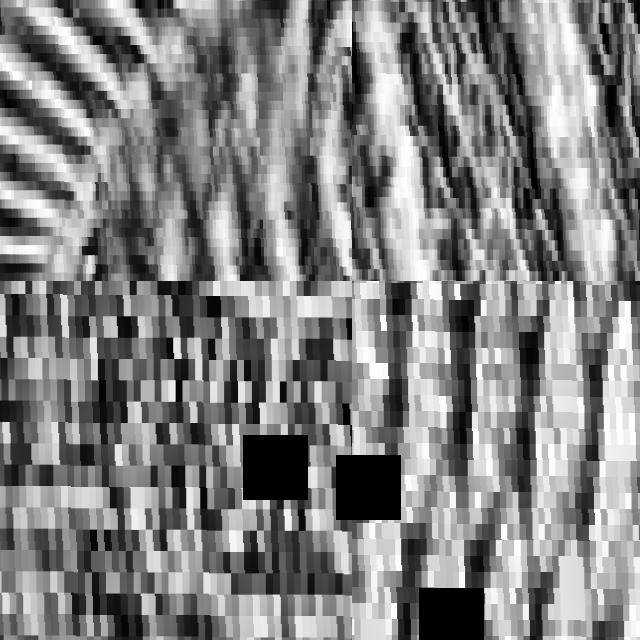crab: (0, 281, 352, 640)
fish: (352, 281, 640, 640), (0, 0, 352, 281), (352, 0, 640, 281)
